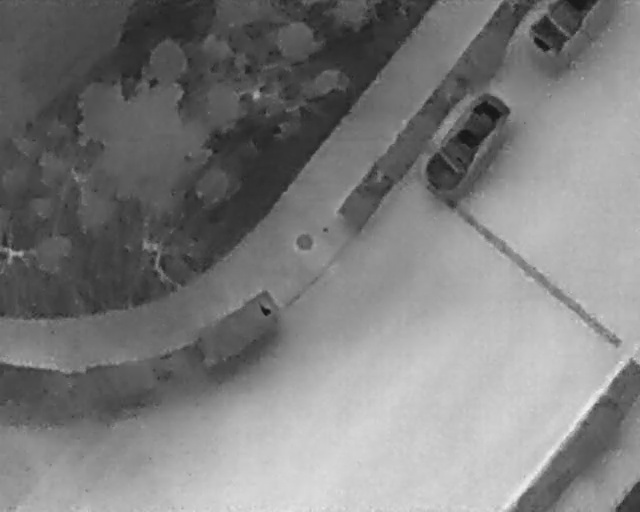Car: (412, 83, 518, 204), (527, 0, 600, 57)
